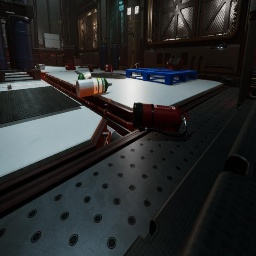0: (76, 78, 112, 98), (78, 72, 91, 80), (35, 64, 45, 70), (65, 64, 66, 69)
FireExtinguisher ]: (133, 102, 189, 138), (57, 48, 58, 49)
FirstAidBox ,: (104, 62, 113, 72), (134, 62, 140, 75), (66, 63, 76, 70)
NitrogenTank ,: (165, 58, 183, 71), (89, 63, 94, 72), (7, 62, 10, 67)
SafetySwitchPanel ,: (130, 7, 134, 28)
